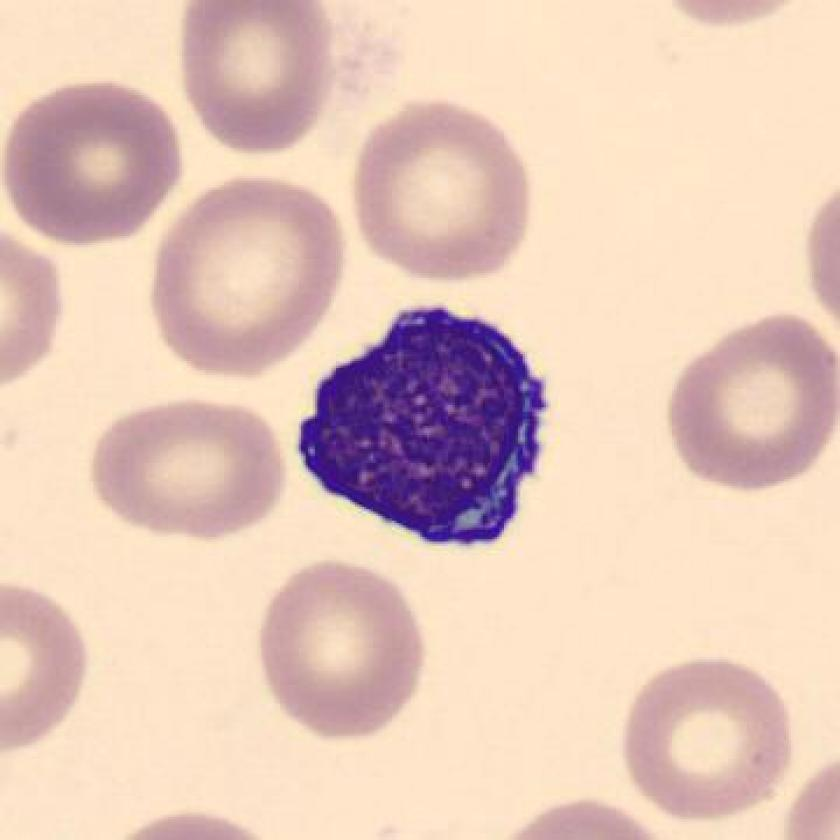lymphocyte: (283, 290, 568, 573)
